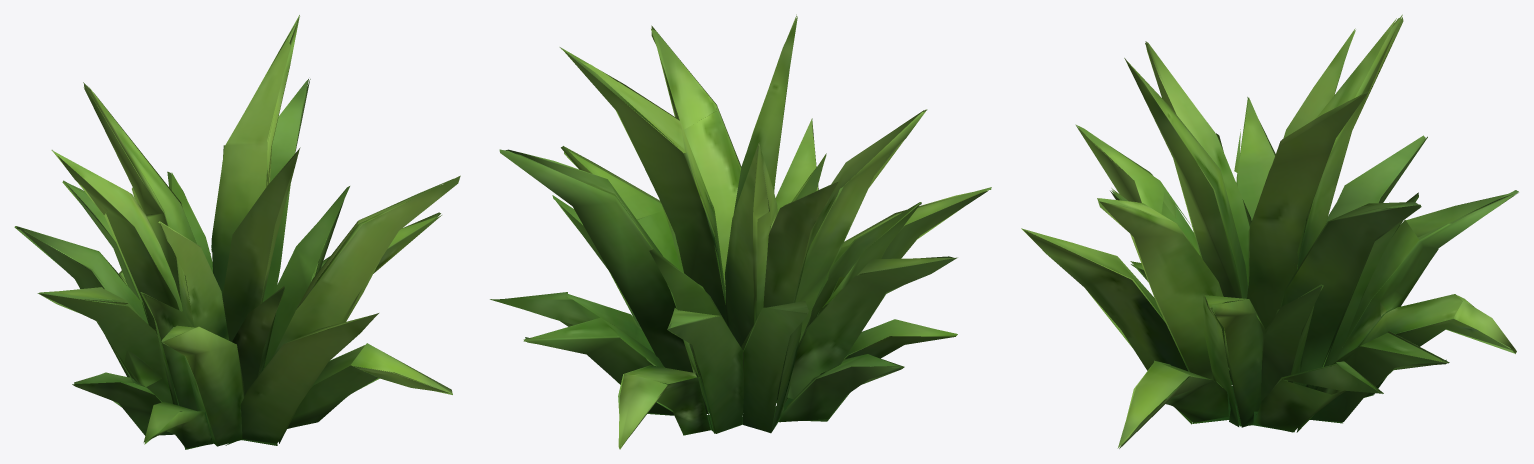
File: grass_gen_b.glb
3 views of the same model, side by side, from view 1: azimuth 30°, elevation 25°; view 2: azimuth 150°, elevation 25°; view 3: azimuth 270°, elevation 25° (orthographic). The views are drawn at different scales.
Visible parts, largest first — view 1: grass_gen.001; view 2: grass_gen.001; view 3: grass_gen.001.
Part boxes in pixels (<box>): grass_gen.001: <box>14,15,460,449</box>; grass_gen.001: <box>490,14,991,449</box>; grass_gen.001: <box>1021,14,1518,448</box>.
Bounding box in the file's own units: 1.82 × 1.51 × 1.83.
Materials: 1 (1 with a texture image).
